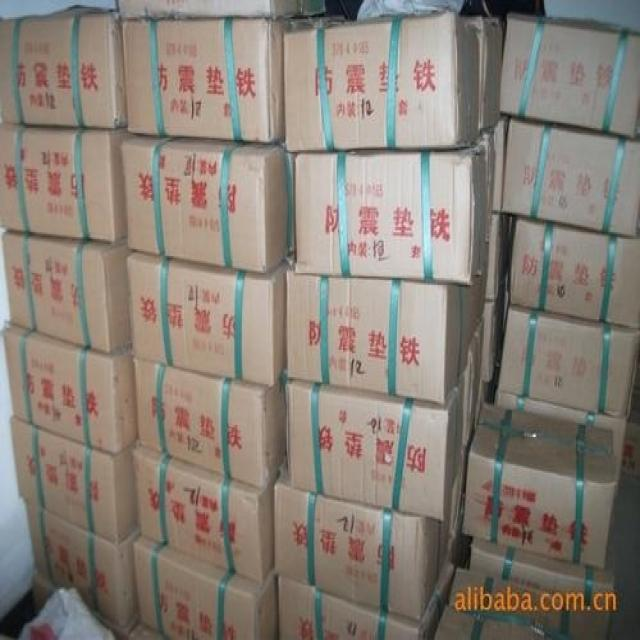box: (283, 9, 500, 154), (285, 358, 467, 521), (118, 14, 347, 143), (287, 259, 488, 404), (274, 461, 447, 618), (296, 143, 488, 283), (120, 135, 297, 275), (462, 423, 620, 570), (127, 247, 288, 387), (132, 439, 275, 582), (132, 360, 287, 488), (3, 323, 138, 456), (502, 12, 640, 140), (0, 229, 132, 355), (12, 415, 140, 543), (503, 121, 640, 239), (0, 5, 127, 130), (498, 307, 640, 416), (0, 123, 127, 244), (24, 500, 141, 630), (132, 536, 276, 638), (470, 539, 616, 638), (509, 220, 640, 329), (494, 389, 628, 492), (276, 573, 443, 640), (449, 568, 600, 640), (480, 404, 613, 454), (435, 604, 573, 638), (116, 0, 326, 17), (463, 317, 484, 442), (79, 594, 137, 638), (485, 215, 509, 300), (481, 302, 502, 384), (451, 454, 467, 541), (494, 121, 508, 212), (32, 572, 65, 609), (485, 126, 495, 237), (623, 422, 640, 478), (438, 565, 454, 608)
